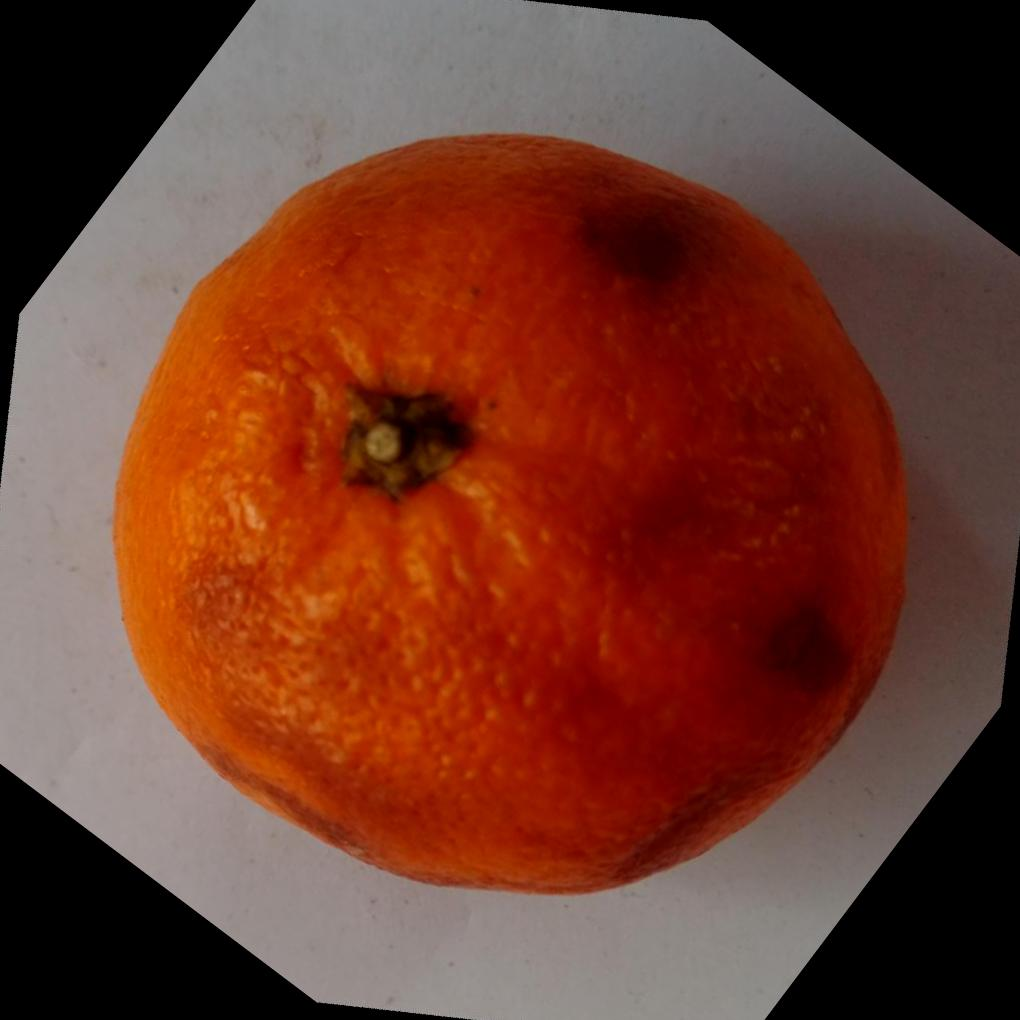FreshOrange: (112, 131, 914, 901)
